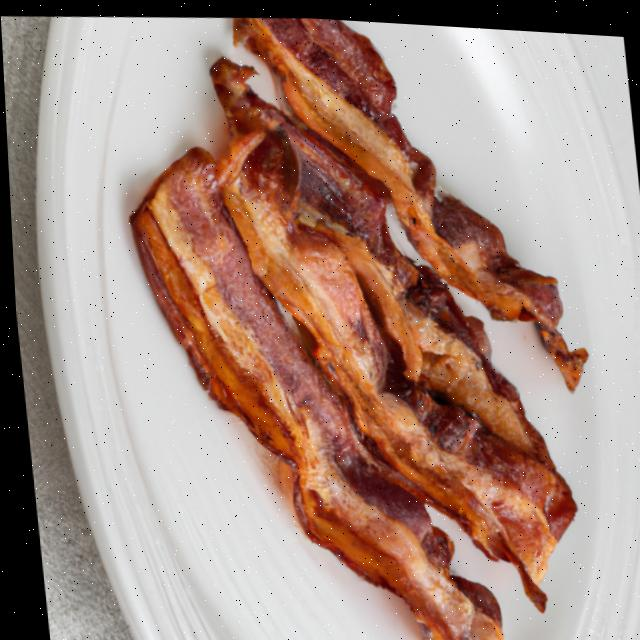Bacon: (212, 56, 569, 599), (129, 145, 496, 640), (234, 15, 583, 384), (267, 112, 548, 463)
